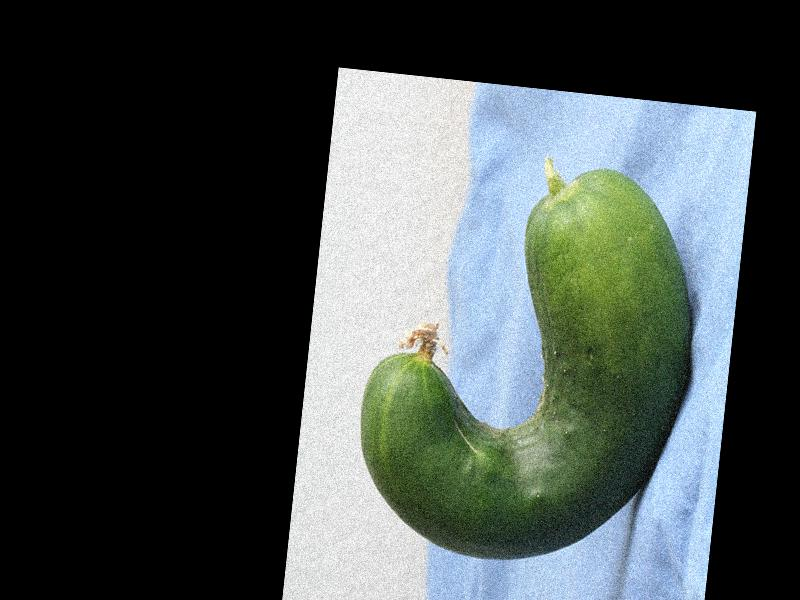Cucumber: (346, 145, 709, 579)
